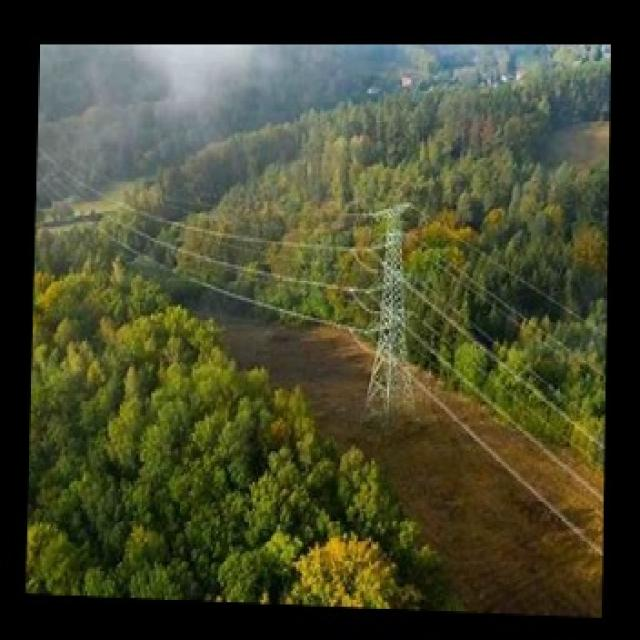utility poles: (346, 198, 438, 432)
